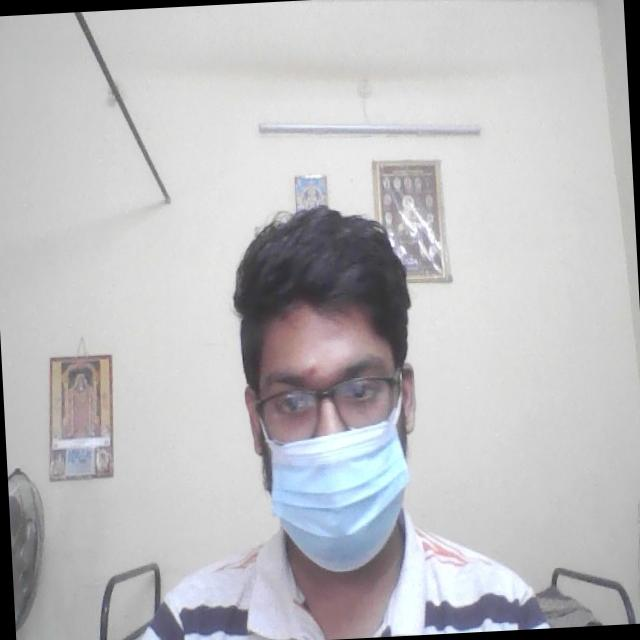Focused: (233, 294, 433, 556)
